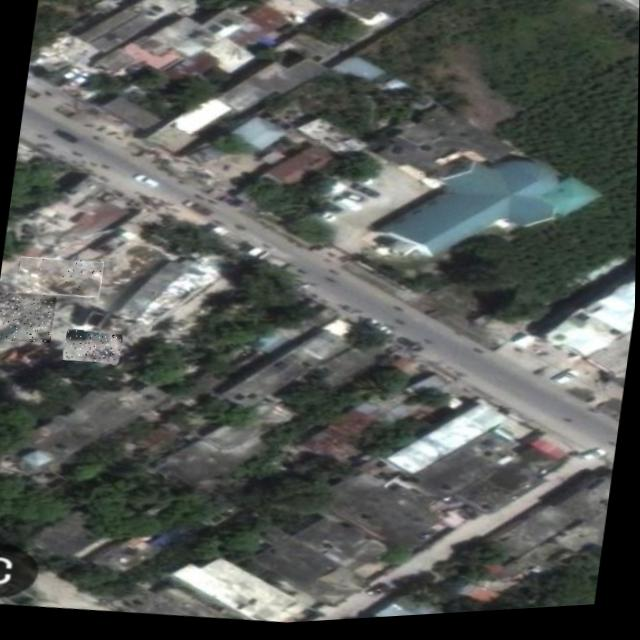Rubble: (15, 253, 104, 303), (0, 289, 56, 346), (63, 328, 122, 368)
